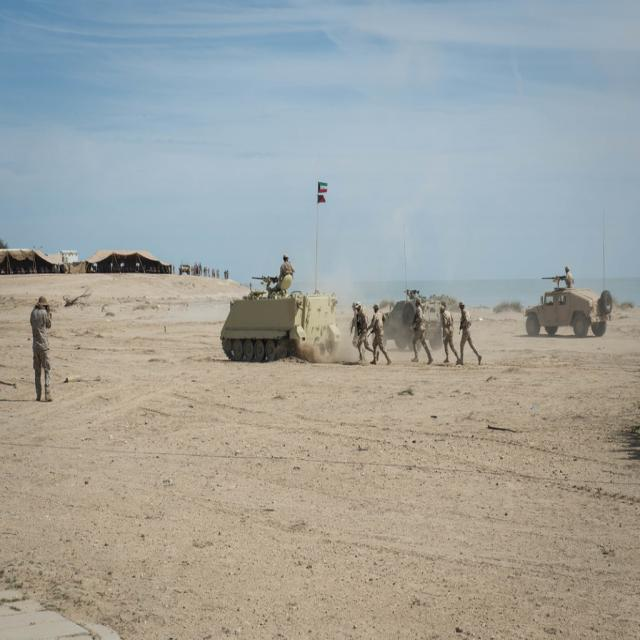tank: (218, 274, 340, 363), (380, 288, 462, 348)
